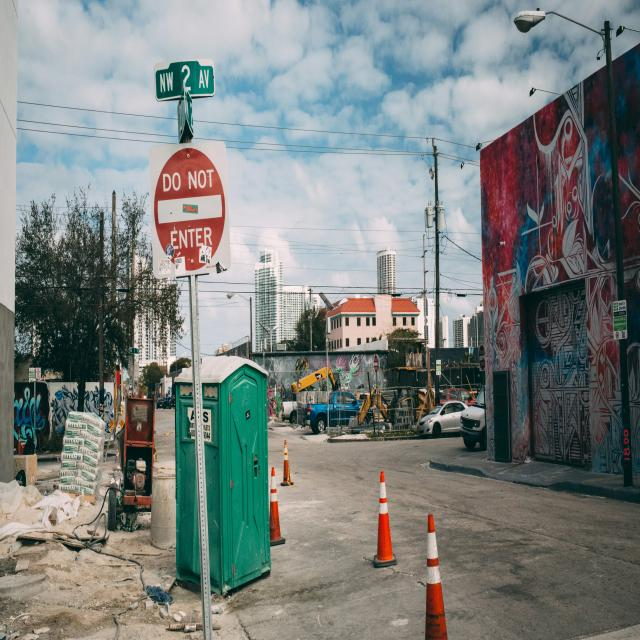Traffic Cone: (360, 438, 409, 598), (413, 501, 457, 640), (268, 468, 296, 575), (274, 432, 300, 500)
